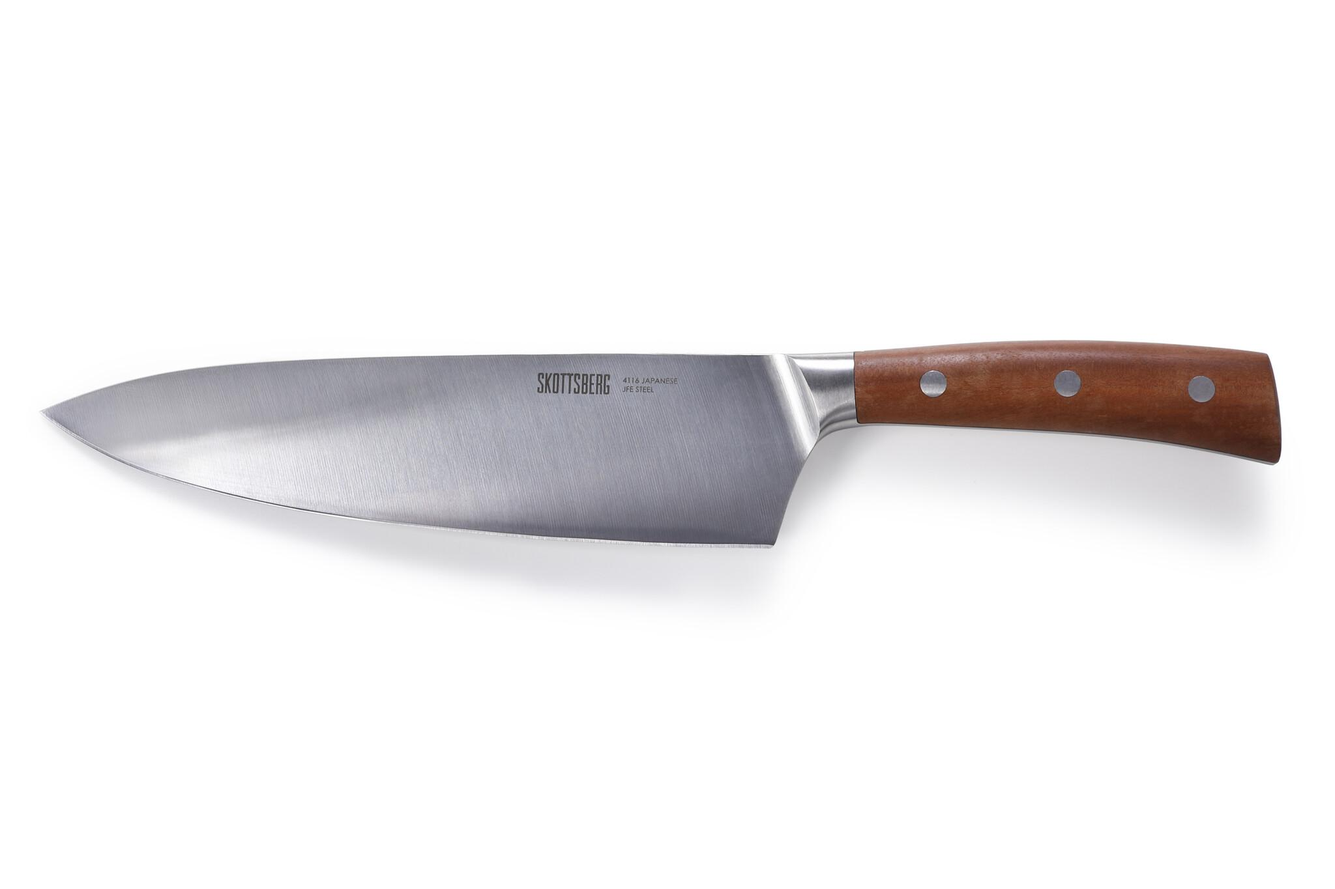Knife: (43, 346, 1284, 548)
